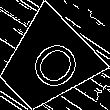O_SW: (14, 30, 80, 97)
